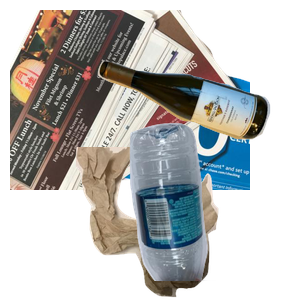glass: (95, 57, 300, 189)
paper: (10, 10, 250, 190)
plastic: (127, 120, 300, 300)
trash: (73, 147, 300, 300)
